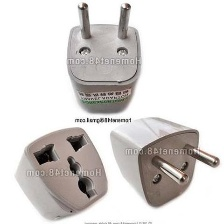three_eye_plug: (107, 110, 222, 212), (7, 123, 112, 224), (65, 2, 143, 118)
